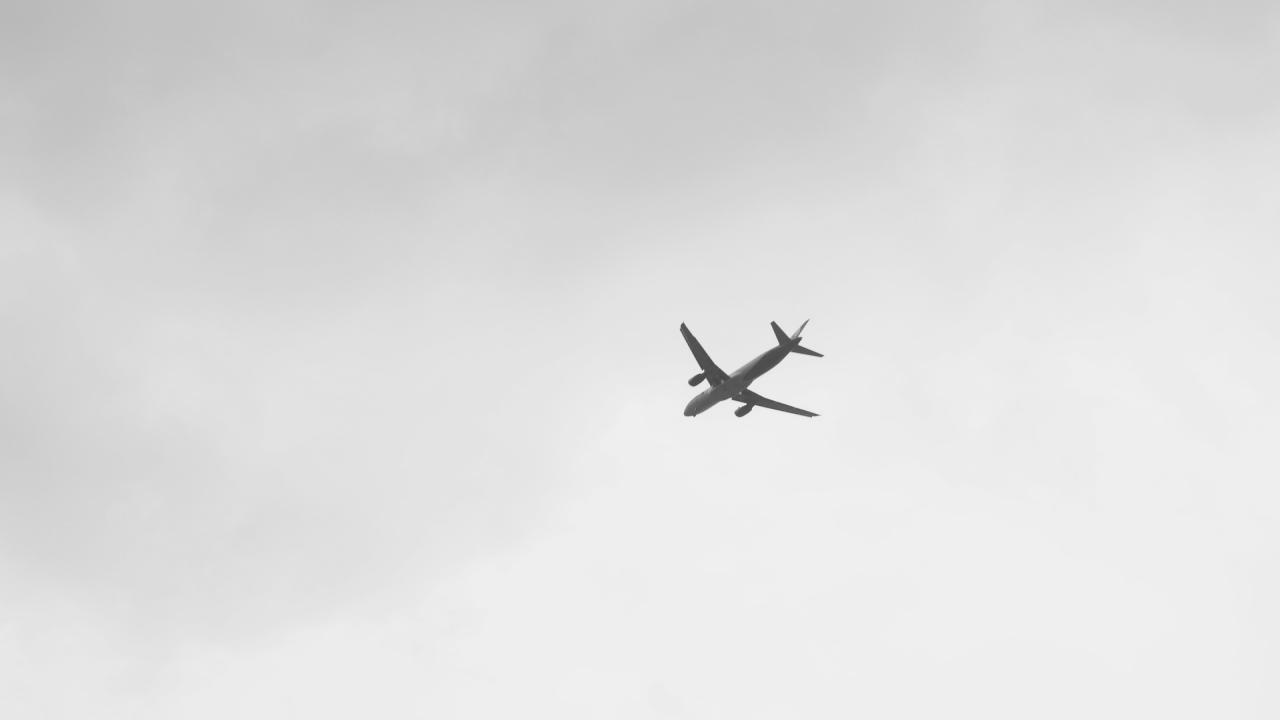Airplane: (663, 306, 833, 433)
